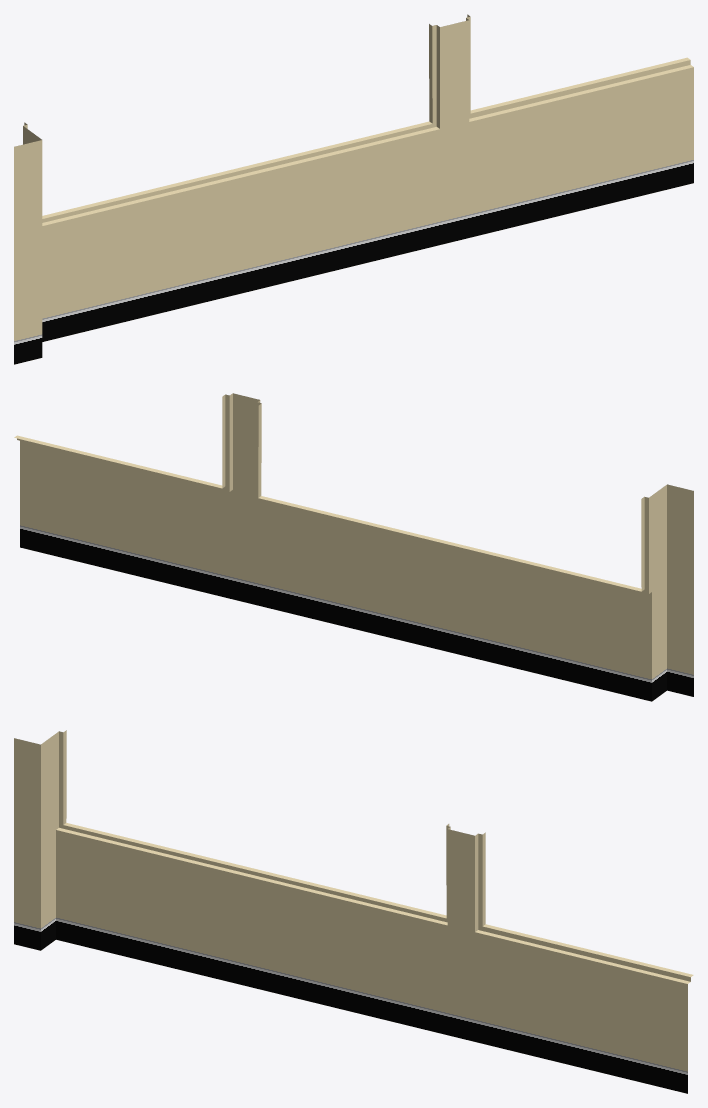
The model's file is pared.obj.
3 views of the same model, one above another, from view 1: azimuth 30°, elevation 25°; view 2: azimuth 150°, elevation 25°; view 3: azimuth 330°, elevation 25° (orthographic). The views are drawn at different scales.
Bounding box in the file's own units: 22.16 × 6.63 × 1.24.
1 material, 1 textured.
